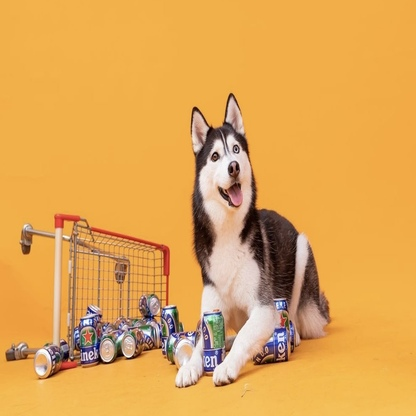husky: (168, 88, 331, 390)
